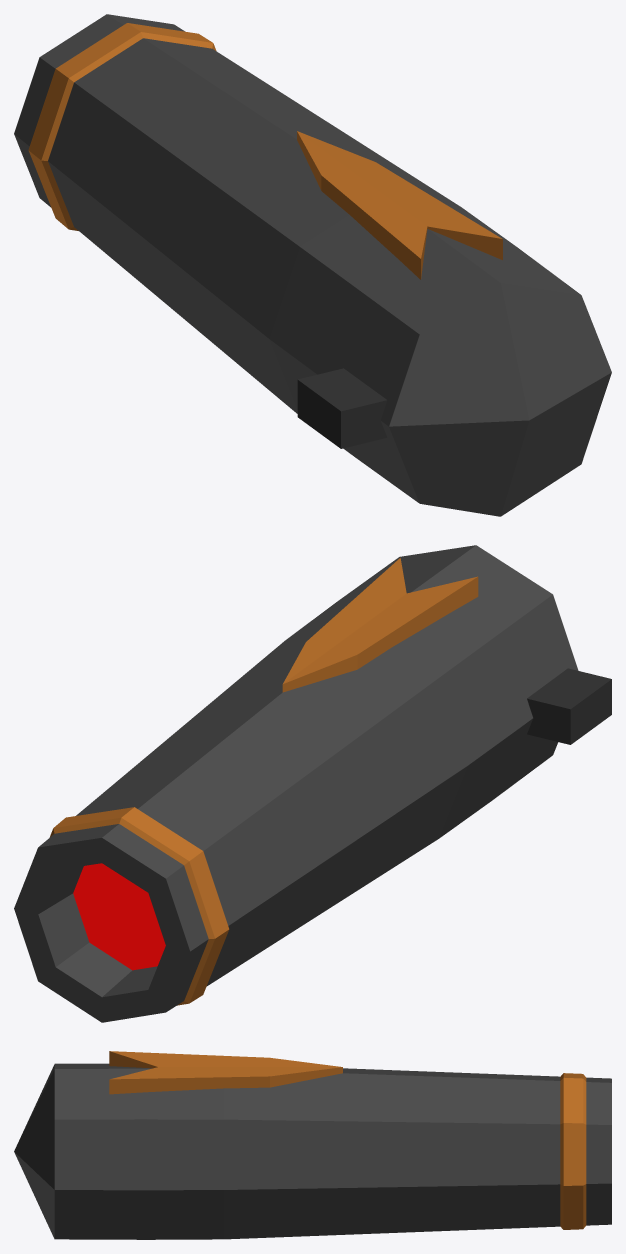
File: PraedatumSecurityBotGun.glb
3 views of the same model, one above another, from view 1: azimuth 30°, elevation 25°; view 2: azimuth 150°, elevation 25°; view 3: azimuth 270°, elevation 25° (orthographic). The views are drawn at different scales.
Parts seen in each view (by area): view 1: GunQuadSphere, GunGreeble, GunMount; view 2: GunQuadSphere, GunGreeble, GunMount; view 3: GunQuadSphere, GunGreeble.
Boxes of the visible parts, x1,y1,x2,y2 form: GunQuadSphere: (14,14,611,516); GunGreeble: (297,131,502,279); GunMount: (297,368,387,448); GunQuadSphere: (14,545,578,1022); GunGreeble: (282,558,478,692); GunMount: (527,668,611,744); GunQuadSphere: (14,1063,611,1239); GunGreeble: (109,1051,342,1094).
Bounding box in the file's own units: 1.1 × 0.9574 × 3.06.
